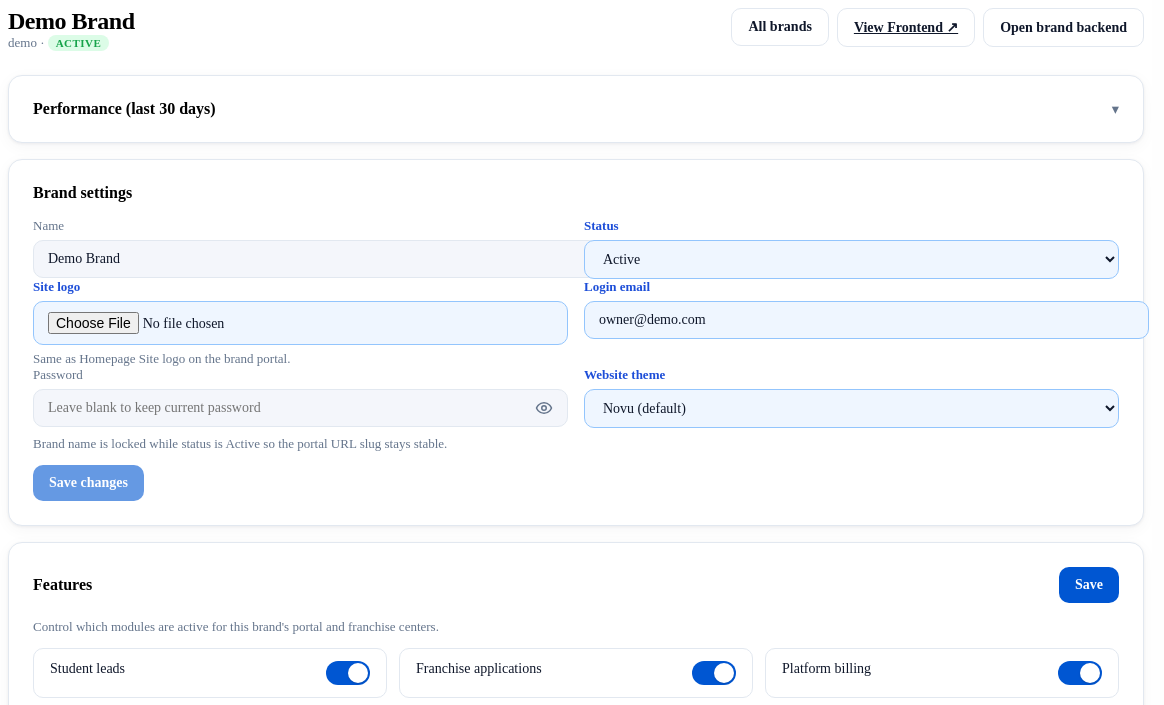
Test case: BrandDetailPage › regression_brand_detail_omits_duplicate_summary_kpis
Expected: the heading "Performance (last 30 days)" is shown, [33,100,216,118]
Click the button with aria-label "Expand performance section" at (124, 108), box [33,100,1119,118]
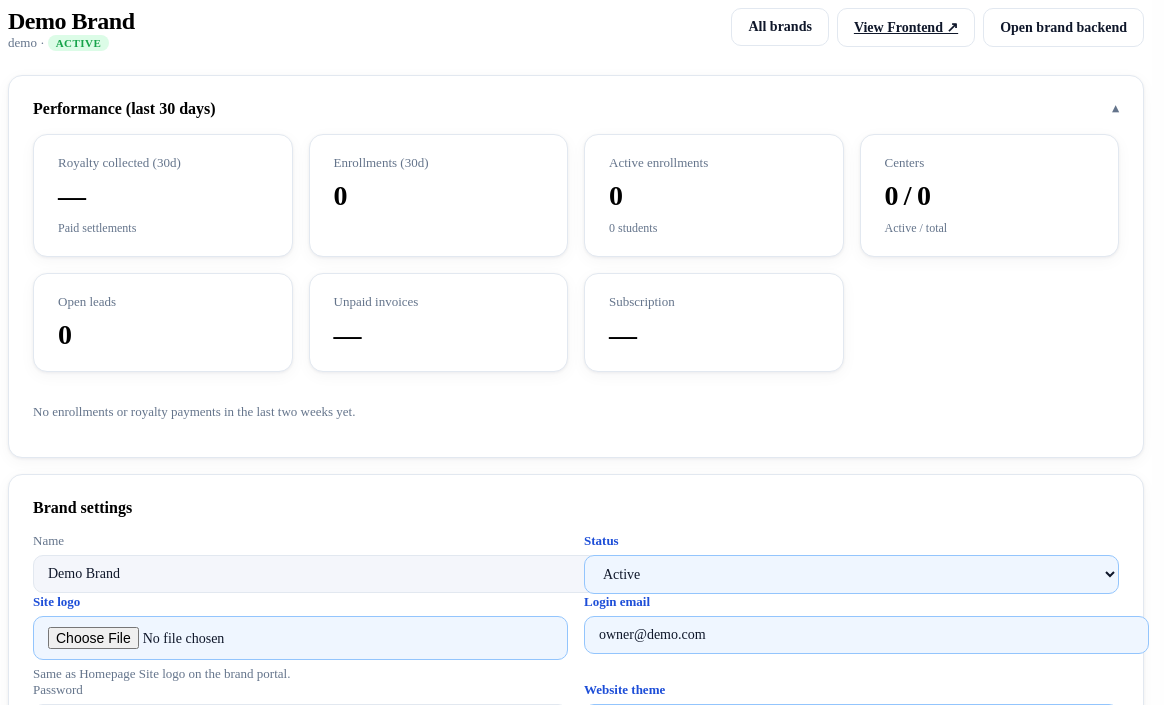
Result: the text "Centers" is shown at [884,155,924,170]
